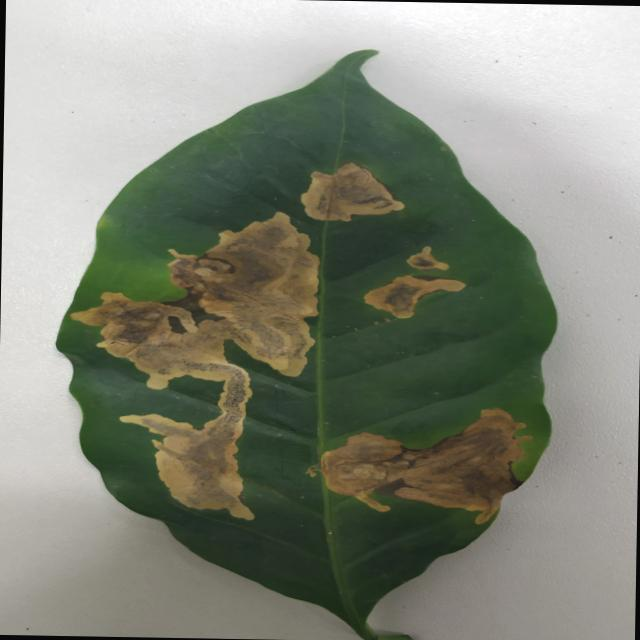PengorokDaunKopi: (168, 212, 318, 376), (321, 408, 531, 523), (71, 292, 251, 415), (119, 376, 254, 519), (301, 162, 404, 221), (364, 275, 465, 318), (406, 246, 448, 270)
